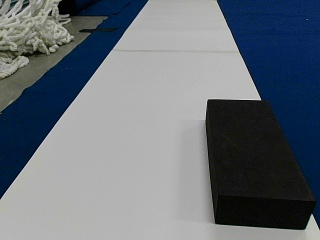block: (207, 99, 315, 230)
